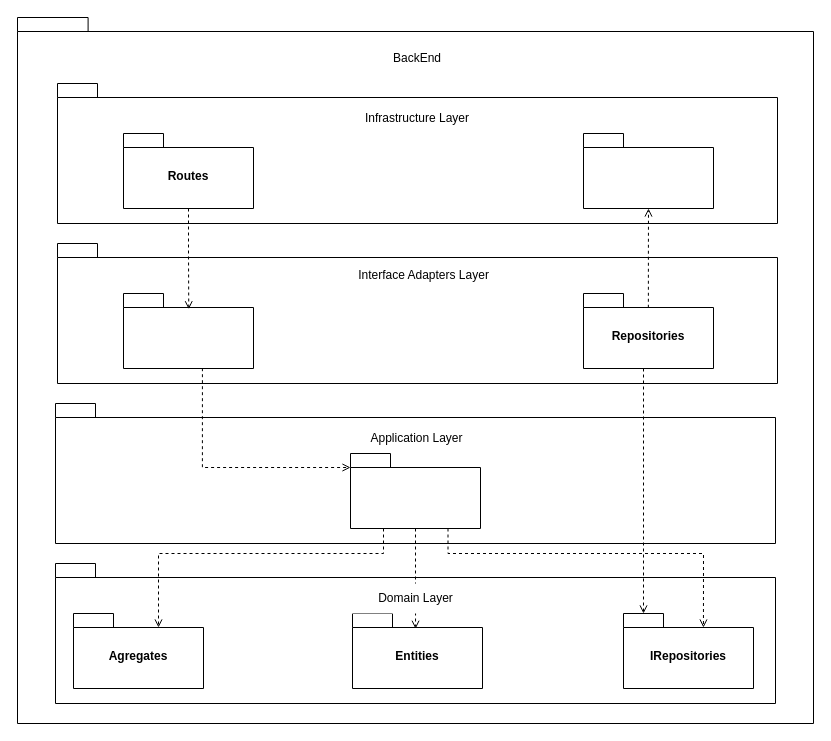
This 831x741 diagram has some shape labels left out. Here are the shapes that lost their labels. From the top down, the centre of each, then its label:
At point (648, 170): "Persistence".
At point (188, 330): "Controllers".
At point (415, 490): "ApplicationServices".
